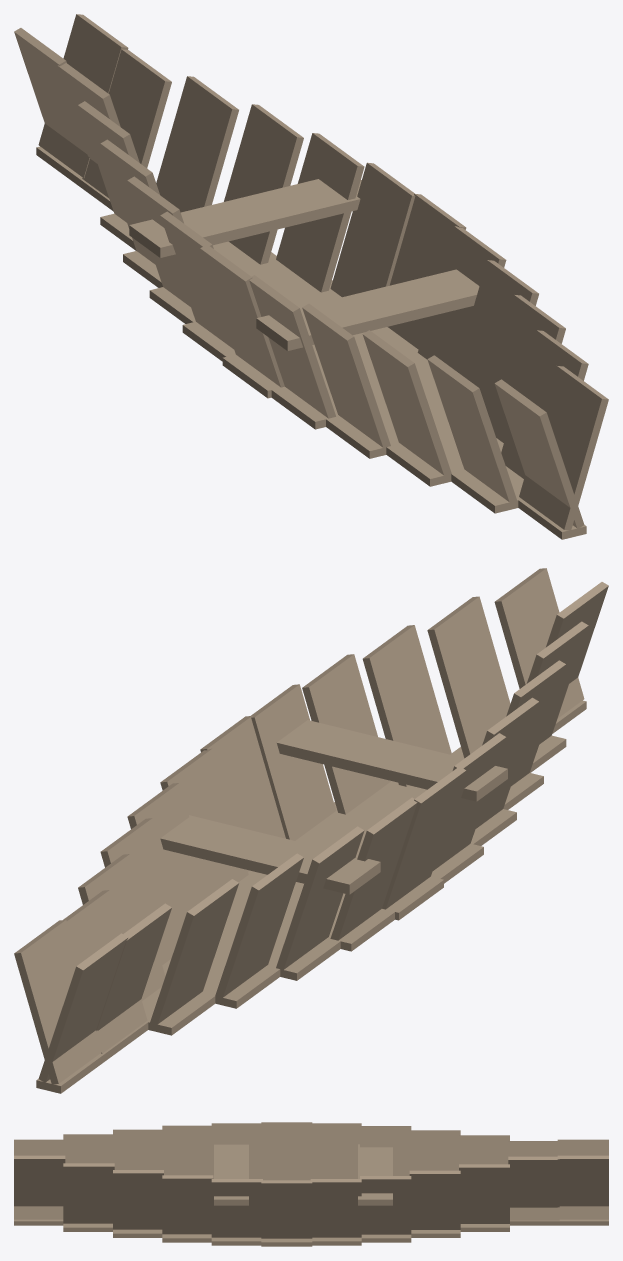
File: rowboat.glb
3 views of the same model, one above another, from view 1: azimuth 30°, elevation 25°; view 2: azimuth 150°, elevation 25°; view 3: azimuth 270°, elevation 25° (orthographic). The views are drawn at different scales.
Visible parts, largest first — view 1: Rowboat; view 2: Rowboat; view 3: Rowboat.
Part boxes in pixels (<box>): Rowboat: <box>14,14,608,539</box>; Rowboat: <box>14,568,608,1093</box>; Rowboat: <box>14,1122,608,1246</box>.
Size of the model in its own units: 0.903 by 0.5124 by 3.72.
